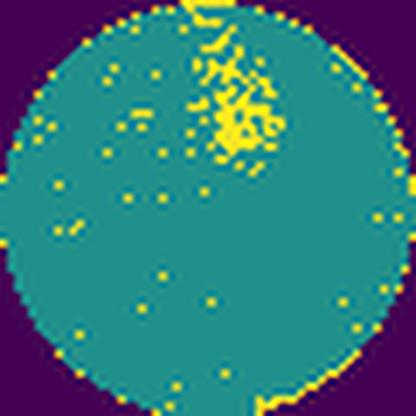Loc: (189, 47, 285, 176)
